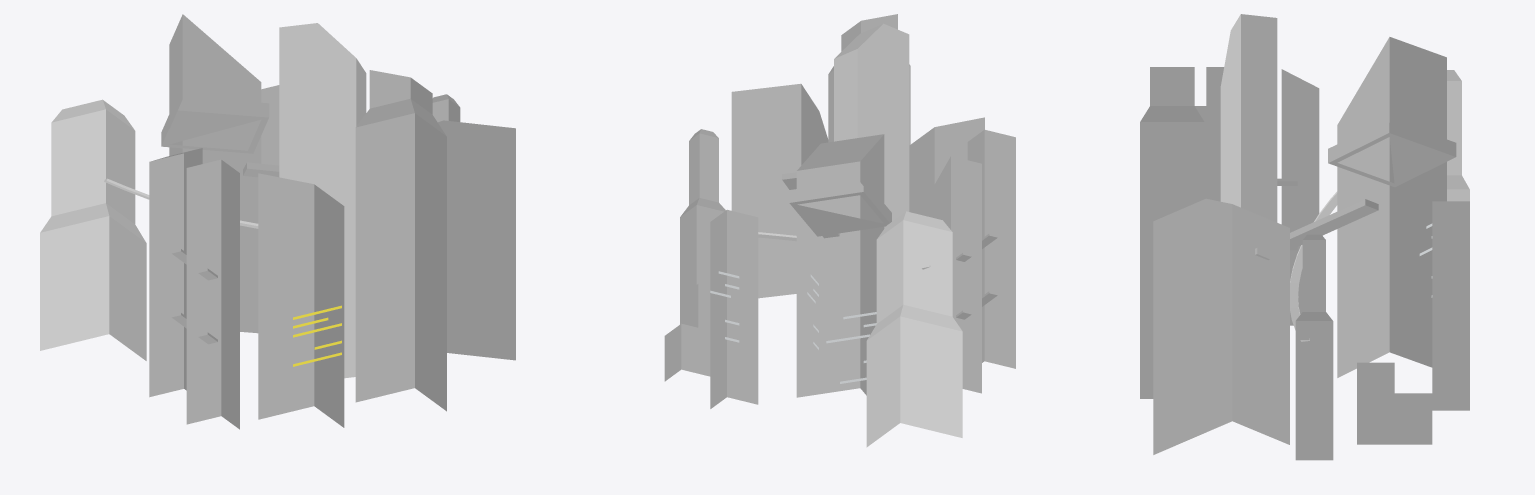
The model's file is ps2_save-icons_projecteden.glb.
The picture shows the model from 3 angles, left to right: view 1: azimuth 30°, elevation 25°; view 2: azimuth 150°, elevation 25°; view 3: azimuth 270°, elevation 25°; orthographic projection. The views are drawn at different scales.
Visible parts, largest first — view 1: eden.ico; view 2: eden.ico; view 3: eden.ico.
Boxes of the visible parts, x1=… form: eden.ico: x1=40, y1=14, x2=515, y2=429; eden.ico: x1=664, y1=14, x2=1015, y2=447; eden.ico: x1=1140, y1=14, x2=1469, y2=460.
Size of the model in its own units: 4.93 by 4.87 by 4.92.
1 material, 1 textured.
